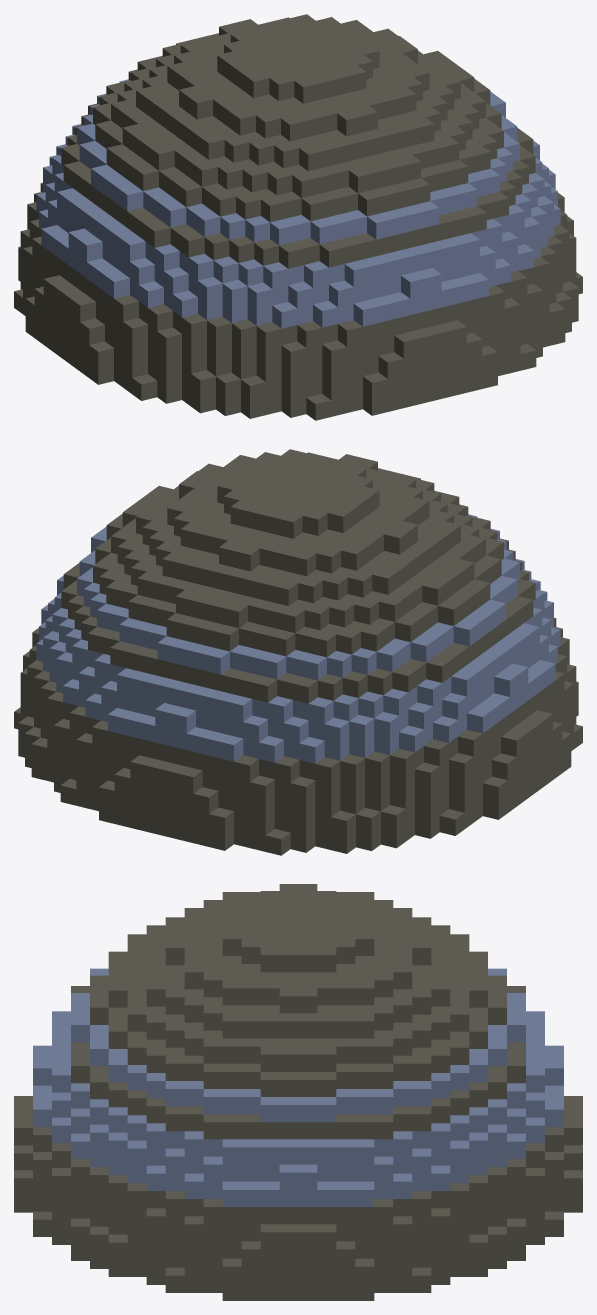
The model's file is factory4.3-31.obj.
3 views of the same model, one above another, from view 1: azimuth 30°, elevation 25°; view 2: azimuth 150°, elevation 25°; view 3: azimuth 270°, elevation 25° (orthographic). The views are drawn at different scales.
Bounding box in the file's own units: 3 × 1.5 × 3.
1 material, 1 textured.
